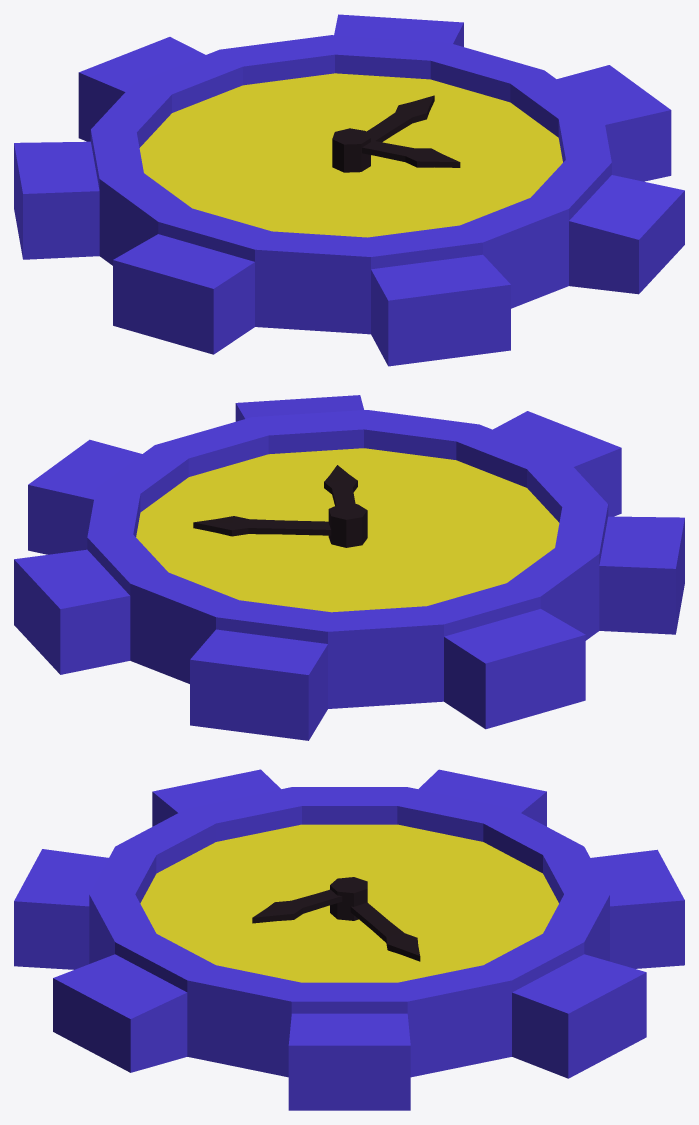
The model's file is Clock2.fbx.
3 renders of one model, top to bottom at view 1: azimuth 30°, elevation 25°; view 2: azimuth 150°, elevation 25°; view 3: azimuth 270°, elevation 25°, orthographic.
Parts seen in each view (by area): view 1: Cylinder, Cylinder.001, Cube.005, Cube.004; view 2: Cylinder, Cube.004, Cylinder.001, Cube.005; view 3: Cylinder, Cube.004, Cube.005, Cylinder.001.
Boxes of the visible parts, x1,y1,x2,y2 form: Cylinder: [14, 14, 684, 366]; Cylinder.001: [332, 128, 370, 172]; Cube.005: [362, 140, 460, 167]; Cube.004: [366, 95, 434, 142]; Cylinder: [14, 395, 684, 740]; Cube.004: [193, 516, 331, 536]; Cylinder.001: [328, 503, 367, 547]; Cube.005: [324, 465, 357, 505]; Cylinder: [14, 769, 684, 1110]; Cube.004: [350, 902, 420, 961]; Cube.005: [252, 889, 342, 923]; Cylinder.001: [330, 877, 367, 920].
Size of the model in its own units: 87.27 by 12.68 by 89.65.
